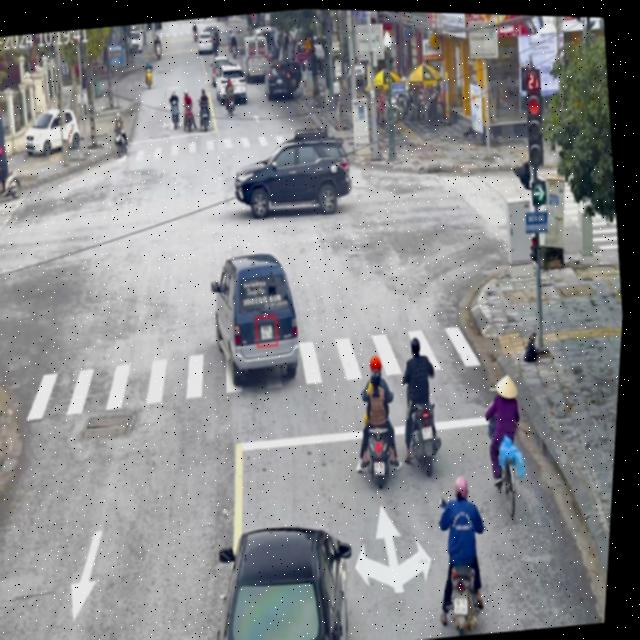Red: (519, 60, 552, 164)
